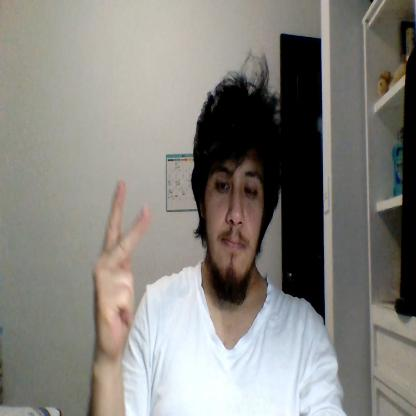P: (92, 180, 148, 355)
